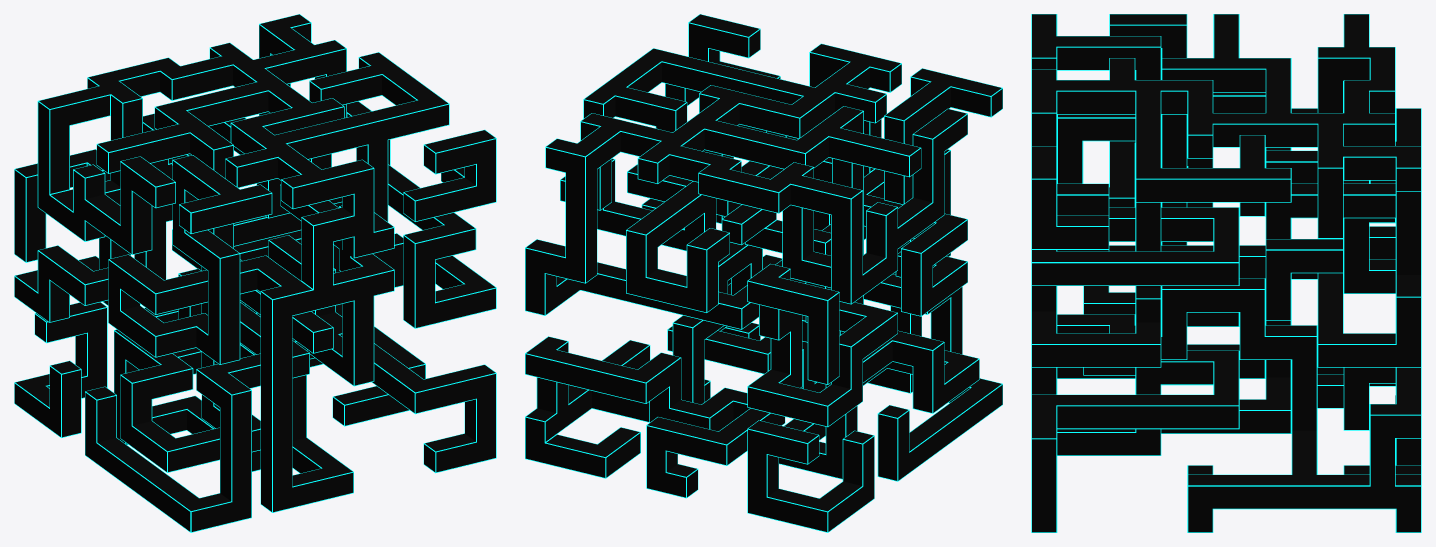
The model's file is Level1-2e2.fbx.
3 views of the same model, side by side, from view 1: azimuth 30°, elevation 25°; view 2: azimuth 150°, elevation 25°; view 3: azimuth 270°, elevation 25° (orthographic). The views are drawn at different scales.
Parts seen in each view (by area): view 1: slot393; view 2: slot393; view 3: slot393.
Boxes of the visible parts, x1,y1,x2,y2 form: slot393: [14, 14, 496, 532]; slot393: [525, 14, 1002, 532]; slot393: [1031, 14, 1421, 532].
Size of the model in its own units: 48000 by 48000 by 48000.
